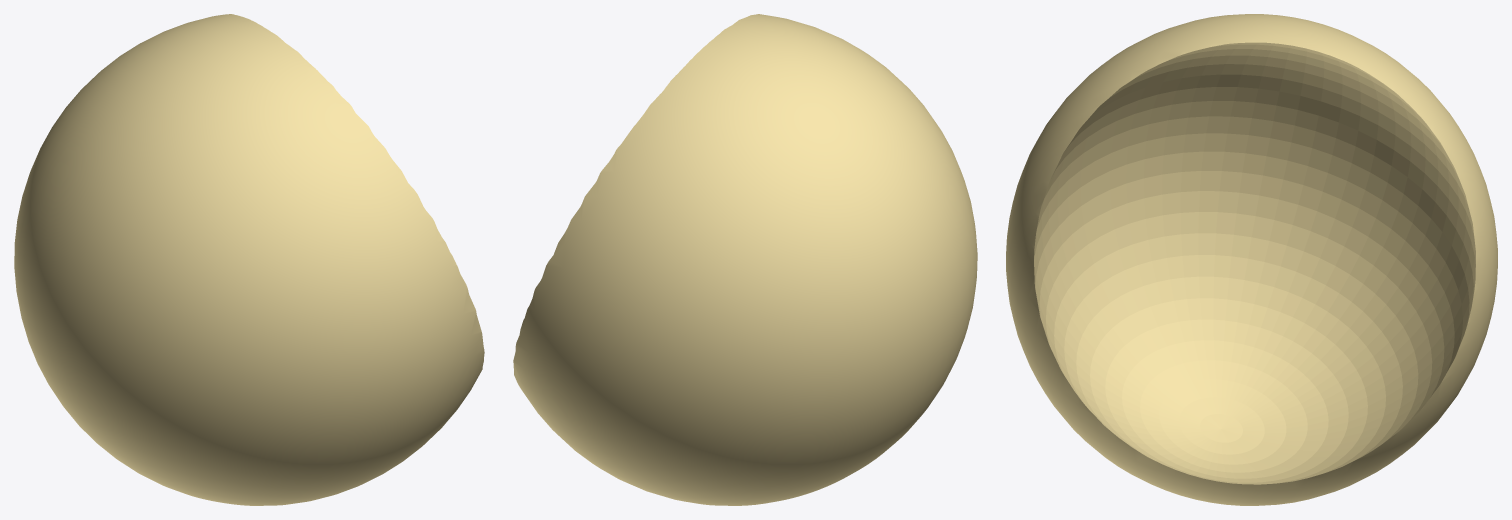
Rendered from moon.obj.
3 renders of one model, left to right at view 1: azimuth 30°, elevation 25°; view 2: azimuth 150°, elevation 25°; view 3: azimuth 270°, elevation 25°, orthographic.
Parts seen in each view (by area): view 1: DZ_Moon_Outer; view 2: DZ_Moon_Outer; view 3: DZ_Moon_Outer.
Part boxes in pixels (x1=…): DZ_Moon_Outer: x1=14, y1=14, x2=484, y2=505; DZ_Moon_Outer: x1=513, y1=14, x2=977, y2=505; DZ_Moon_Outer: x1=1006, y1=14, x2=1497, y2=505.
Size of the model in its own units: 14.04 by 16 by 15.98.
